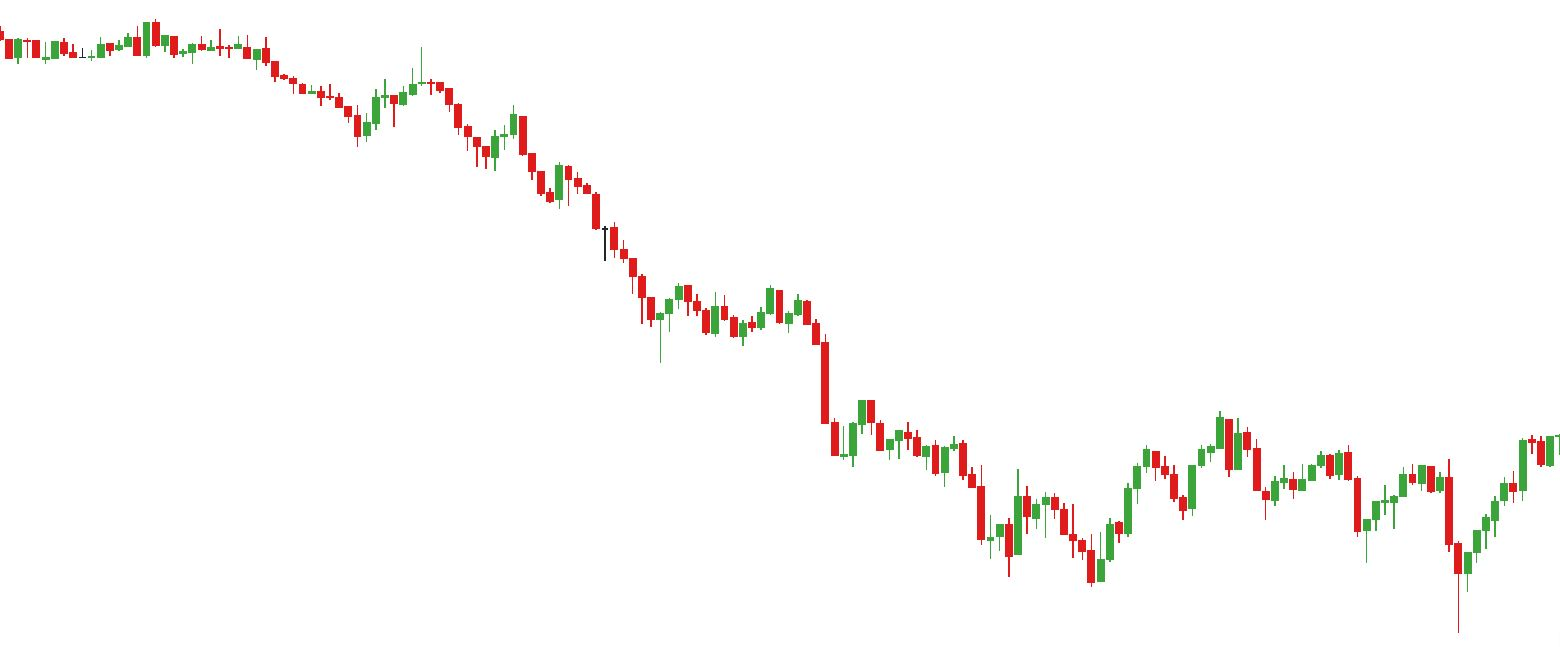buy: (1363, 489, 1473, 640), (1003, 486, 1107, 591)
sell: (1143, 408, 1236, 493), (379, 37, 435, 112), (710, 280, 786, 329)
